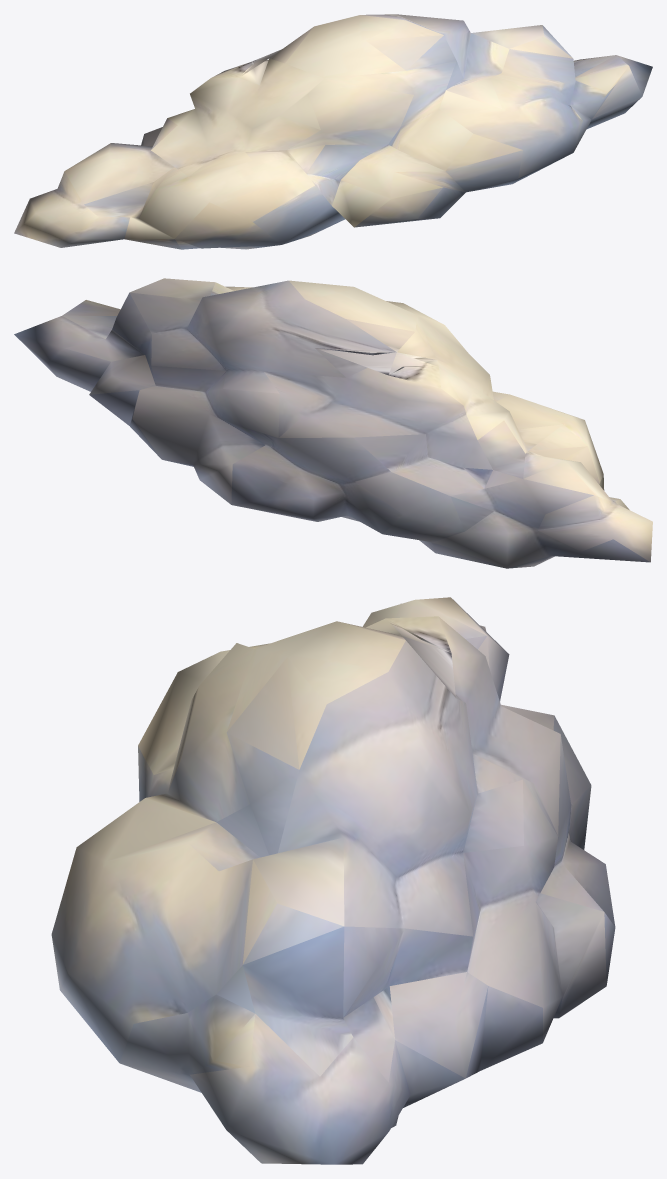
Rendered from cloudB.glb.
3 renders of one model, top to bottom at view 1: azimuth 30°, elevation 25°; view 2: azimuth 150°, elevation 25°; view 3: azimuth 270°, elevation 25°, orthographic. The views are drawn at different scales.
Parts seen in each view (by area): view 1: CloudKitMesh1; view 2: CloudKitMesh1; view 3: CloudKitMesh1.
Part boxes in pixels (box(x1,y1,x2,y2)): CloudKitMesh1: box(14, 14, 652, 249); CloudKitMesh1: box(14, 278, 652, 568); CloudKitMesh1: box(51, 597, 615, 1164).
Bounding box in the file's own units: 11 × 3.08 × 4.4.
1 material, 1 textured.
